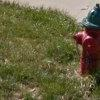Hydrant: (52, 4, 100, 82)
